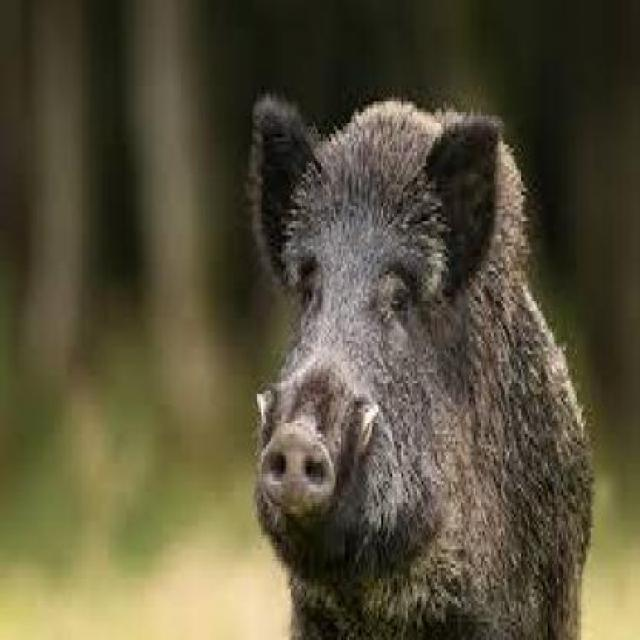wildboar: (248, 86, 600, 640)
